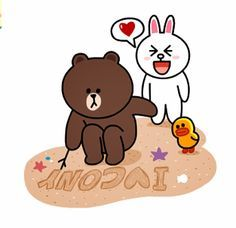line_brown: (58, 50, 138, 120)
